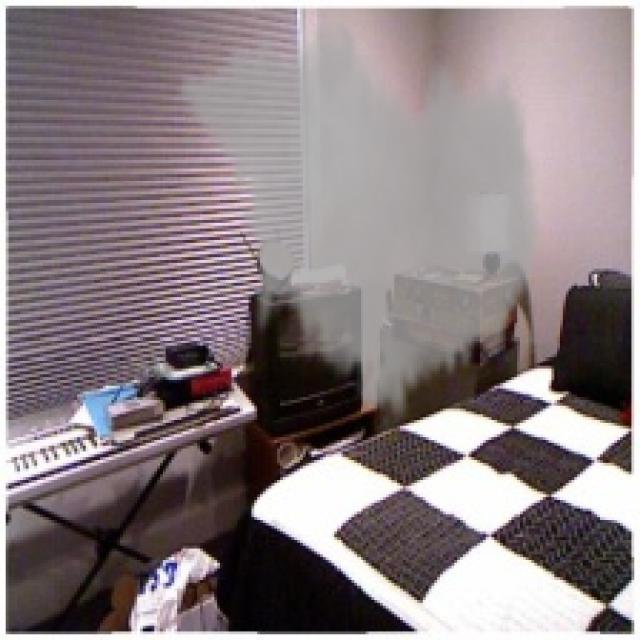smoke: (174, 3, 546, 426)
